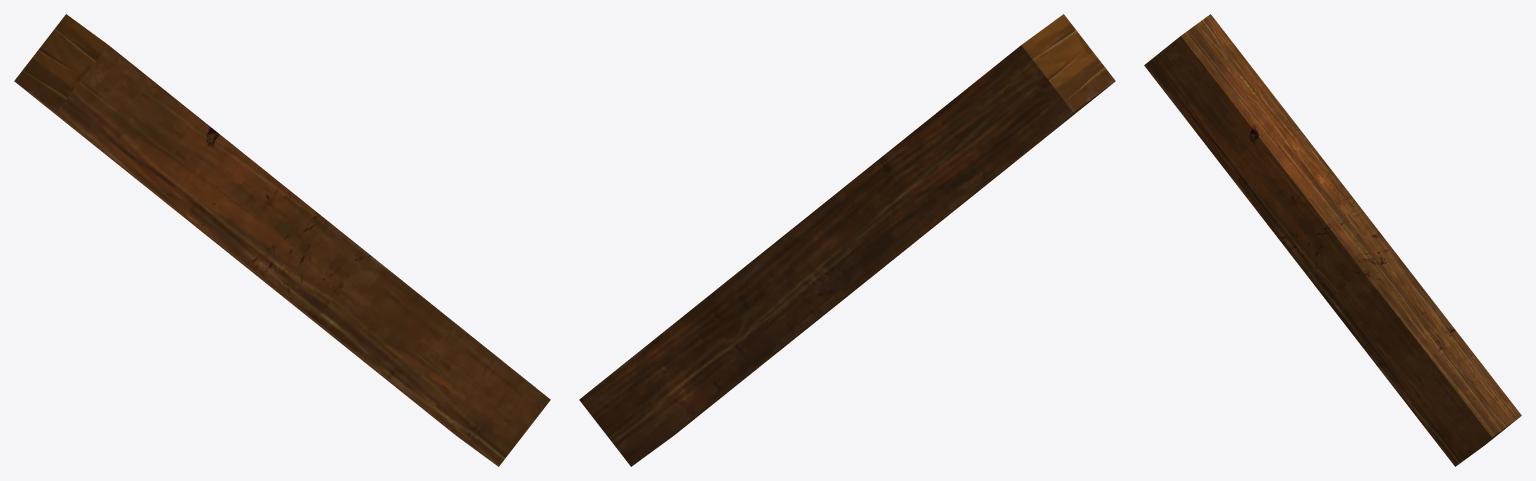
The picture shows the model from 3 angles, left to right: view 1: azimuth 30°, elevation 25°; view 2: azimuth 150°, elevation 25°; view 3: azimuth 330°, elevation 25°; orthographic projection. The views are drawn at different scales.
Visible parts, largest first — view 1: SM_BB_T2_Beam_Thin_Med_Diagonal_LOD0; view 2: SM_BB_T2_Beam_Thin_Med_Diagonal_LOD0; view 3: SM_BB_T2_Beam_Thin_Med_Diagonal_LOD0.
Boxes of the visible parts, <box> form: SM_BB_T2_Beam_Thin_Med_Diagonal_LOD0: <box>14,14,550,466</box>; SM_BB_T2_Beam_Thin_Med_Diagonal_LOD0: <box>579,14,1115,466</box>; SM_BB_T2_Beam_Thin_Med_Diagonal_LOD0: <box>1144,14,1521,466</box>.
Size of the model in its own units: 1.68 by 1.68 by 0.2505.
1 material, 1 textured.
